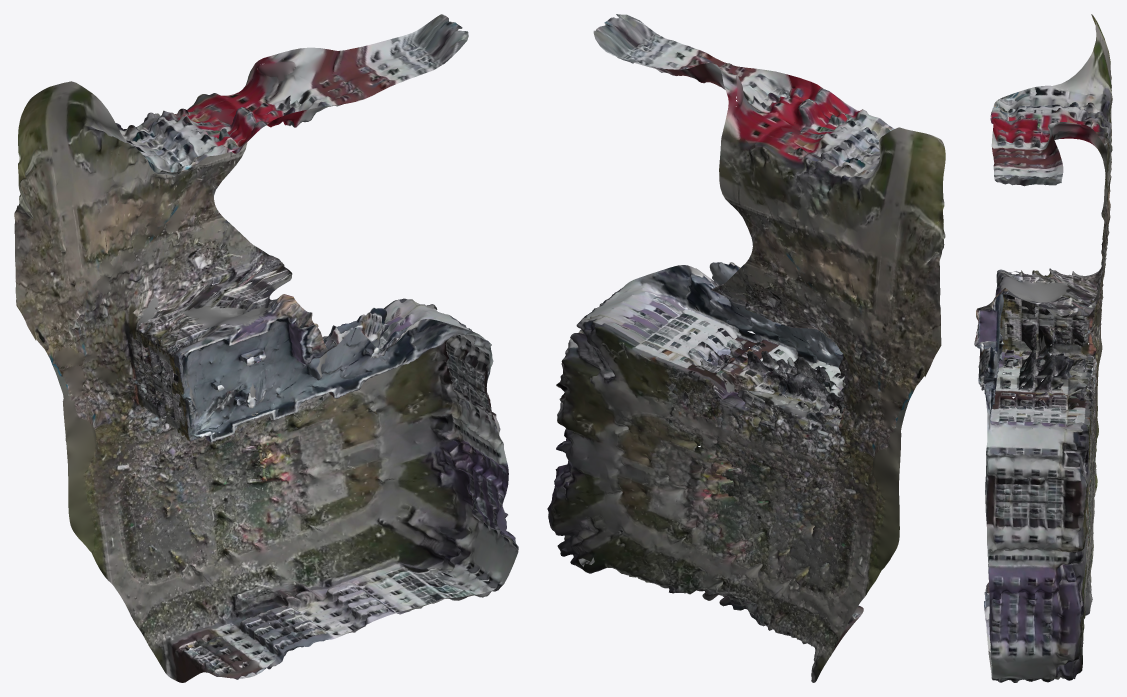
Rendered from destroyed_apartments_bucha_ukraine_war_2022.glb.
3 renders of one model, left to right at view 1: azimuth 30°, elevation 25°; view 2: azimuth 150°, elevation 25°; view 3: azimuth 270°, elevation 25°, orthographic. The views are drawn at different scales.
Parts seen in each view (by area): view 1: Object_4, Object_5, Object_2; view 2: Object_4, Object_5, Object_2; view 3: Object_4, Object_5, Object_2.
Boxes of the visible parts, <box> form: Object_4: <box>74,47,518,682</box>; Object_5: <box>14,14,518,673</box>; Object_2: <box>52,61,295,552</box>; Object_4: <box>547,62,890,682</box>; Object_5: <box>549,14,945,644</box>; Object_2: <box>736,75,909,570</box>; Object_4: <box>984,122,1103,682</box>; Object_5: <box>974,14,1112,682</box>; Object_2: <box>1000,123,1110,446</box>.
Size of the model in its own units: 28.16 by 37.87 by 8.68.
Materials: 3 (3 with a texture image).
